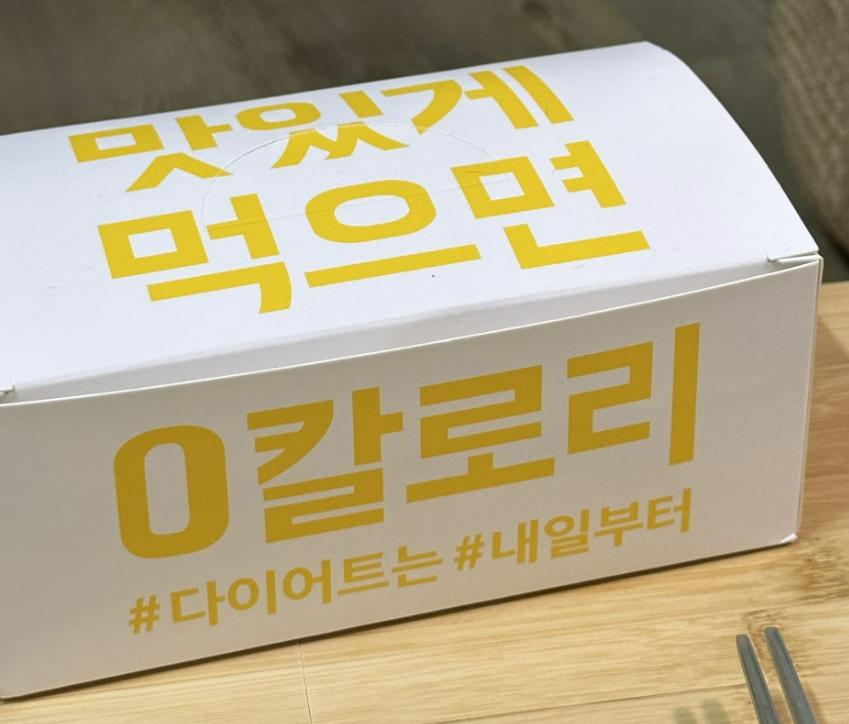Lunch Box: (0, 44, 820, 697)
